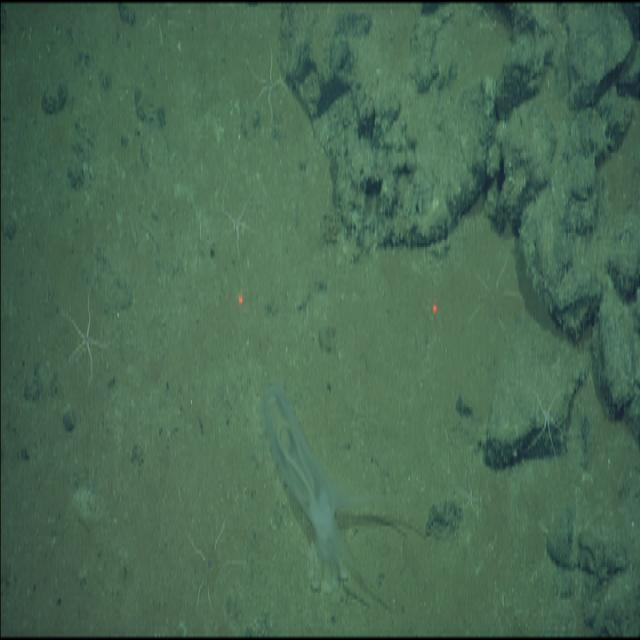Brittle Star: (176, 516, 244, 616), (464, 256, 524, 339), (61, 285, 110, 381), (245, 30, 288, 124), (525, 386, 571, 473), (218, 186, 258, 259), (452, 471, 484, 527)
